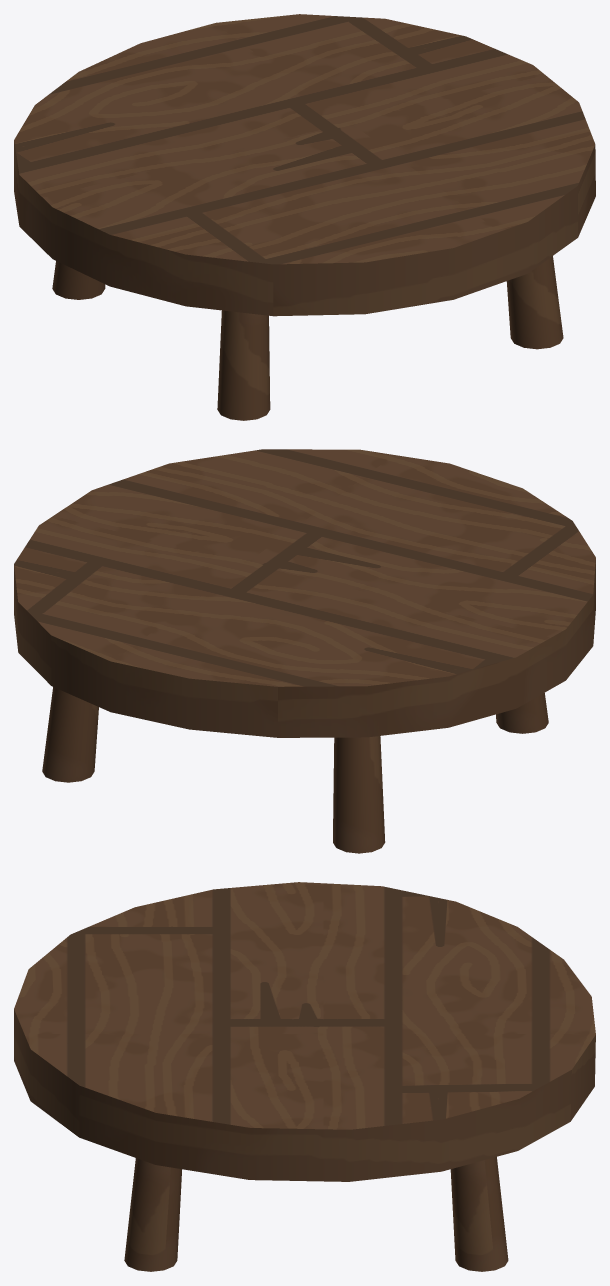
File: MSH_Table_Round.fbx
3 renders of one model, top to bottom at view 1: azimuth 30°, elevation 25°; view 2: azimuth 150°, elevation 25°; view 3: azimuth 270°, elevation 25°, orthographic.
Parts seen in each view (by area): view 1: MSH_Table_Round; view 2: MSH_Table_Round; view 3: MSH_Table_Round.
Part boxes in pixels (x1,y1,x2,y2): MSH_Table_Round: (14,14,595,420); MSH_Table_Round: (14,449,595,853); MSH_Table_Round: (14,882,595,1271).
Bounding box in the file's own units: 196 × 65.55 × 195.
